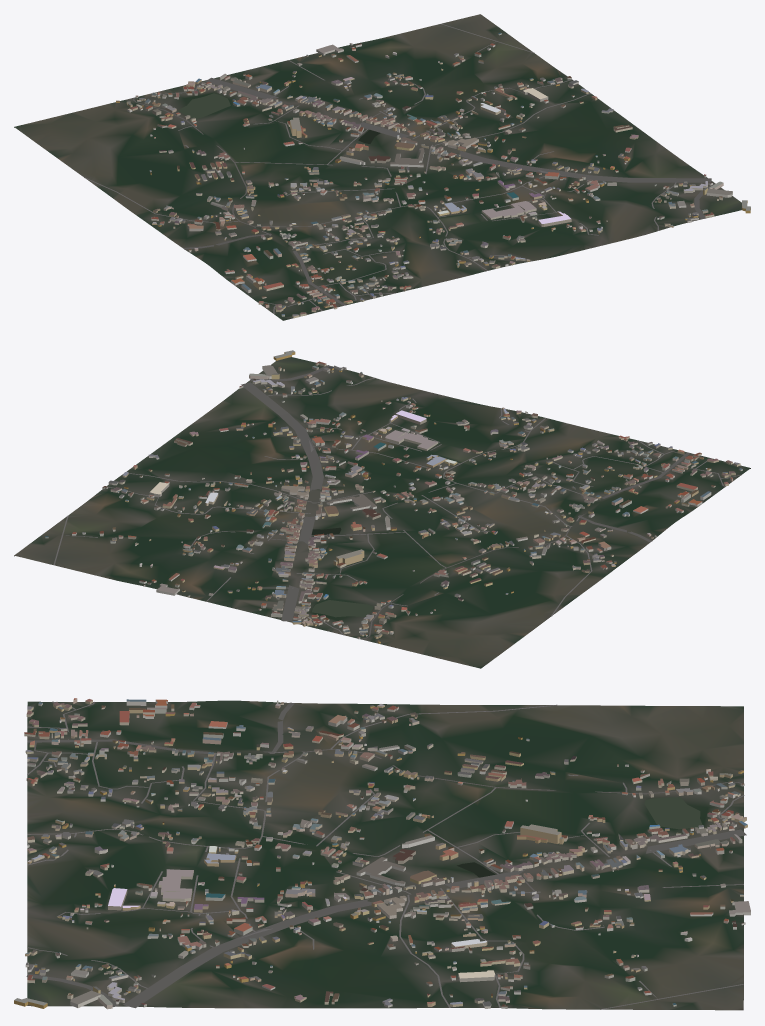
3 renders of one model, top to bottom at view 1: azimuth 30°, elevation 25°; view 2: azimuth 150°, elevation 25°; view 3: azimuth 270°, elevation 25°, orthographic. The views are drawn at different scales.
Parts seen in each view (by area): view 1: ground, buildings, roads, water; view 2: ground, buildings, roads, water; view 3: ground, buildings, roads, water.
Part boxes in pixels (x1,y1,x2,y2): ground: [14, 14, 742, 320]; buildings: [116, 32, 750, 318]; roads: [84, 23, 714, 313]; water: [178, 93, 380, 143]; ground: [14, 357, 750, 668]; buildings: [45, 350, 742, 643]; roads: [53, 365, 741, 639]; water: [311, 527, 373, 617]; ground: [27, 700, 743, 1010]; buildings: [14, 698, 750, 1009]; roads: [26, 701, 746, 1009]; water: [457, 797, 702, 877].
Bounding box in the file's own units: 1417 × 28.77 × 1442.
